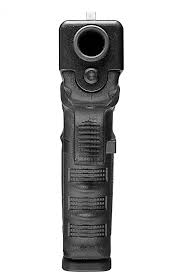gun: (53, 8, 129, 271)
